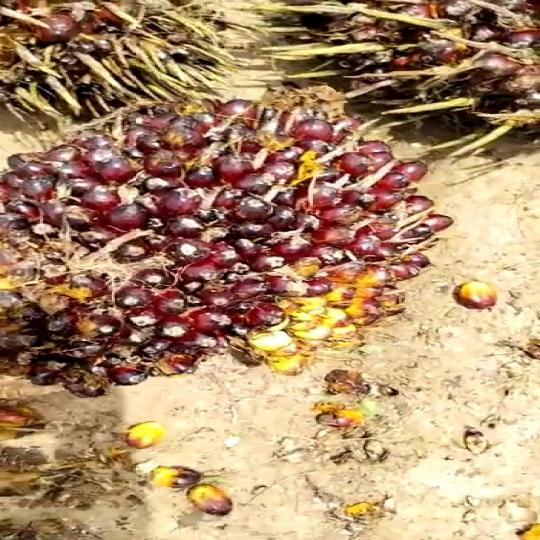kurang masak: (0, 89, 449, 393)
